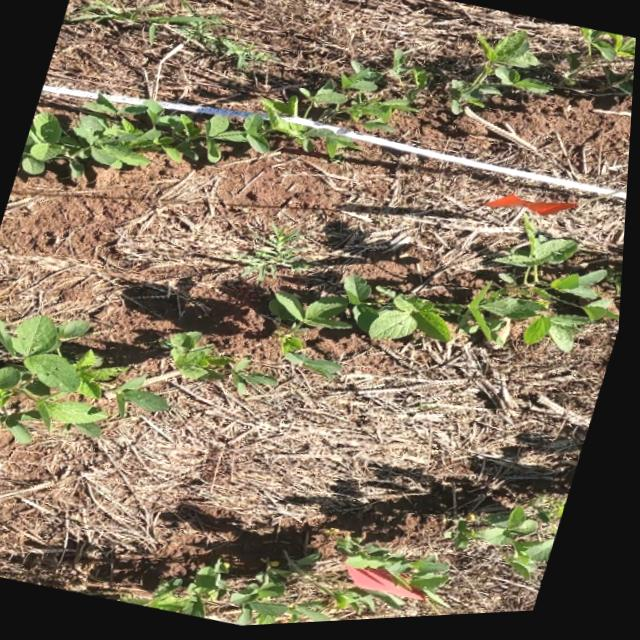grassy_weed: (66, 0, 271, 70), (234, 227, 319, 284)
soy_plant: (127, 502, 573, 629), (273, 223, 624, 382), (21, 68, 412, 178), (0, 314, 172, 443), (451, 36, 555, 122), (172, 334, 282, 396), (565, 32, 637, 99)
